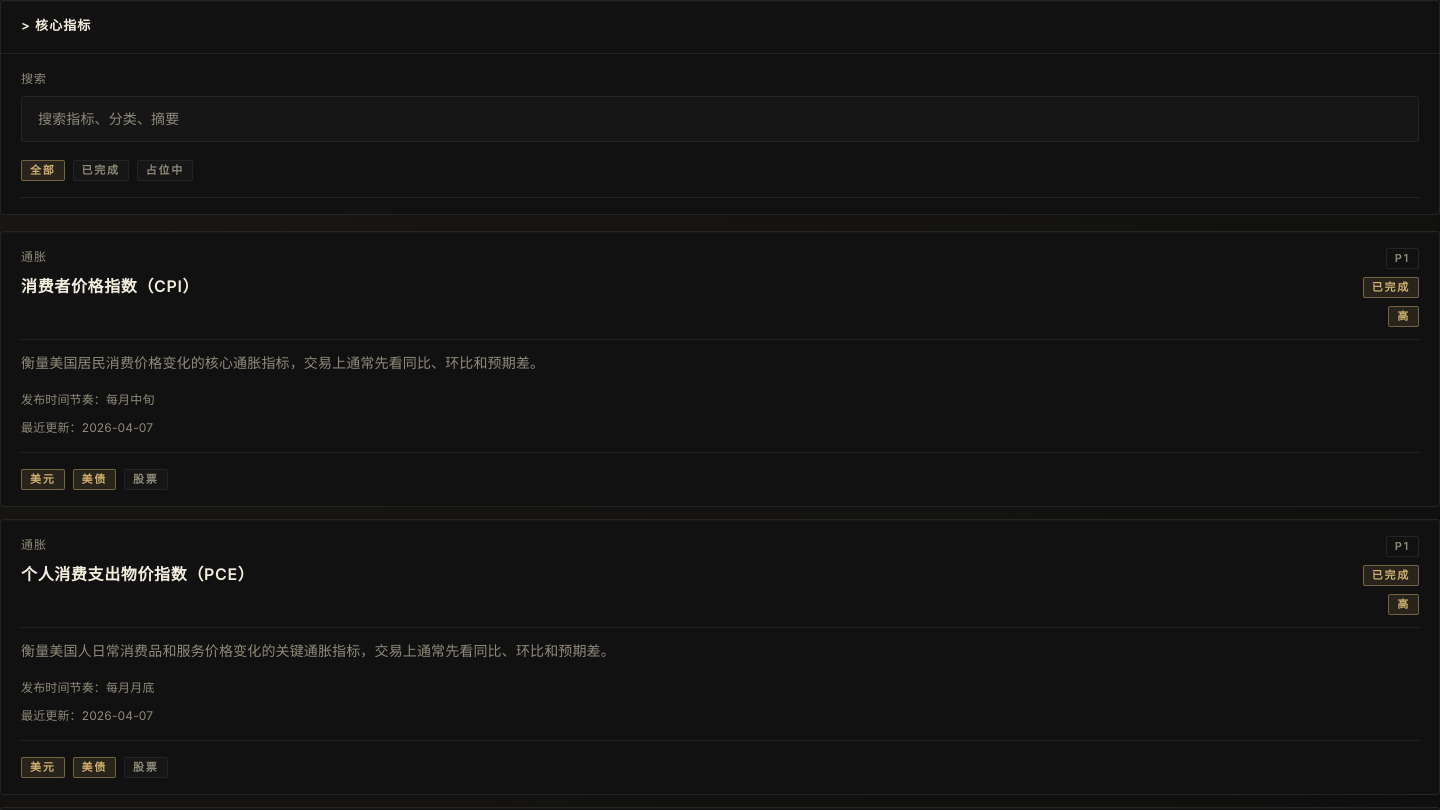
Test case: IndicatorList › filters between all, live, and placeholder indicators
Expected: the link "消费者价格指数（CPI）" is shown, [0,230,1439,506]
Click the button "已完成". click: [101, 169]
box: [72,158,129,180]
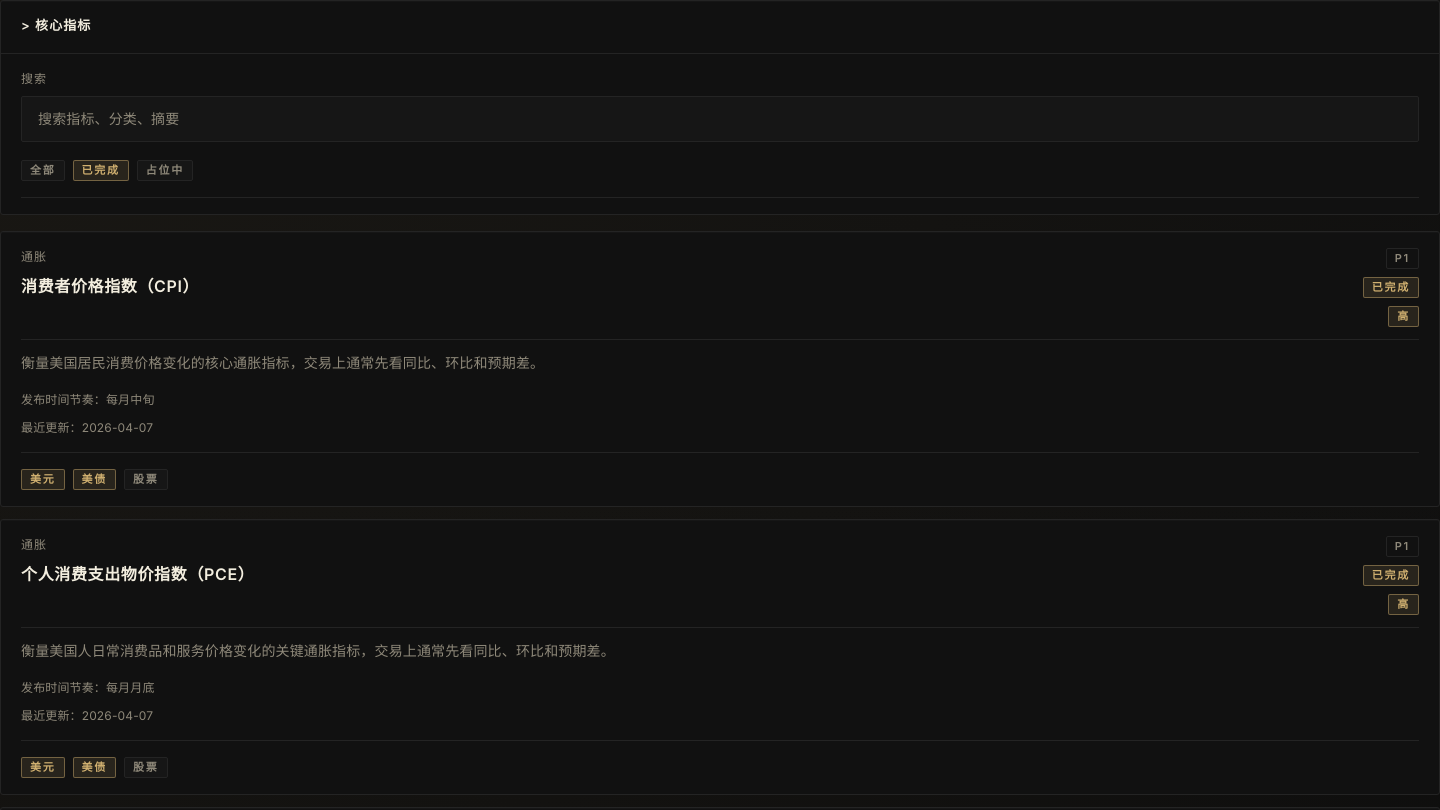
Expected: the link "消费者价格指数（CPI）" is shown, [0,230,1439,506]
Now the button "已完成" is pressed, box [72,158,129,180]
Click the button "占位中". click: [165, 169]
box: [137,158,193,180]
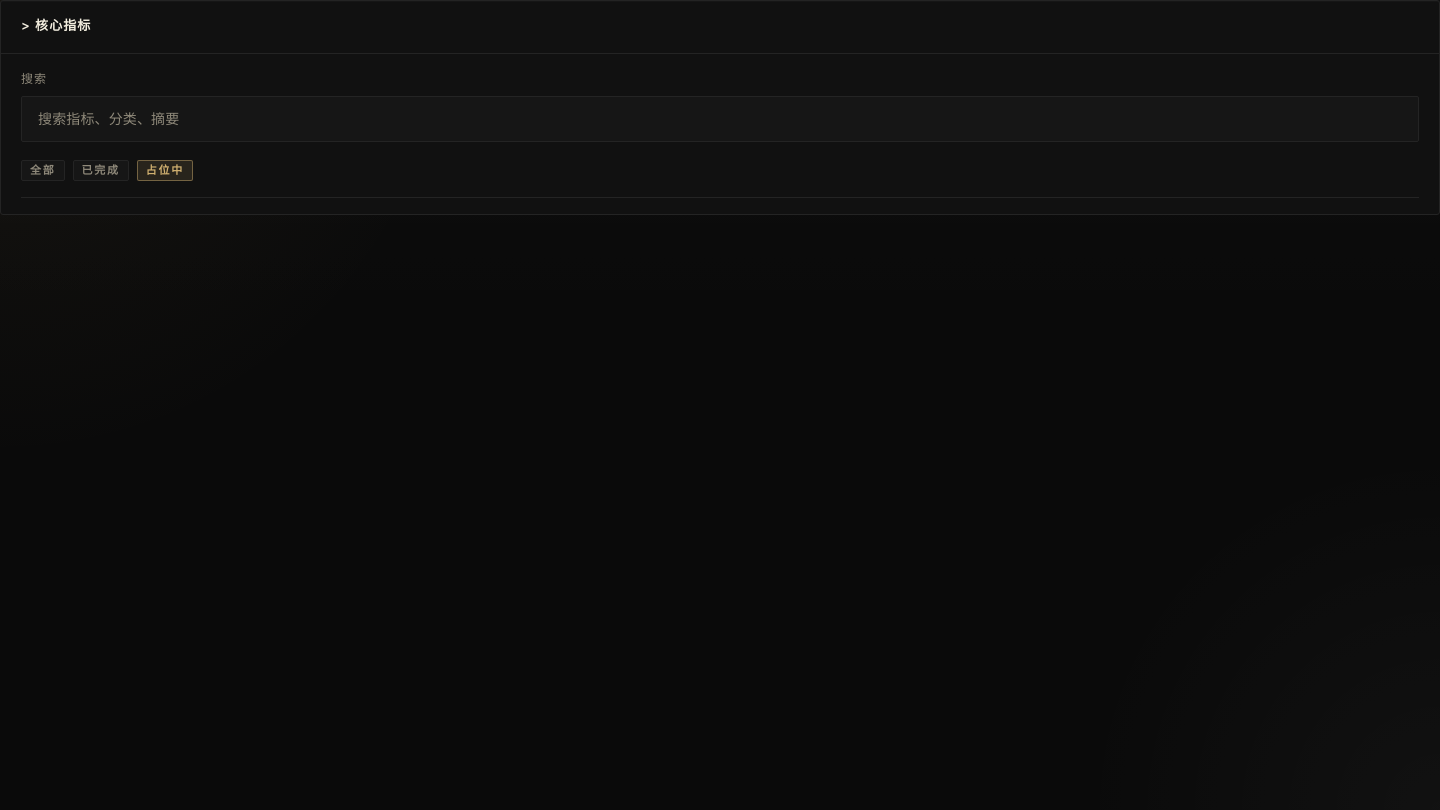
Now the link "消费者价格指数（CPI）" is gone
Now no links are shown
